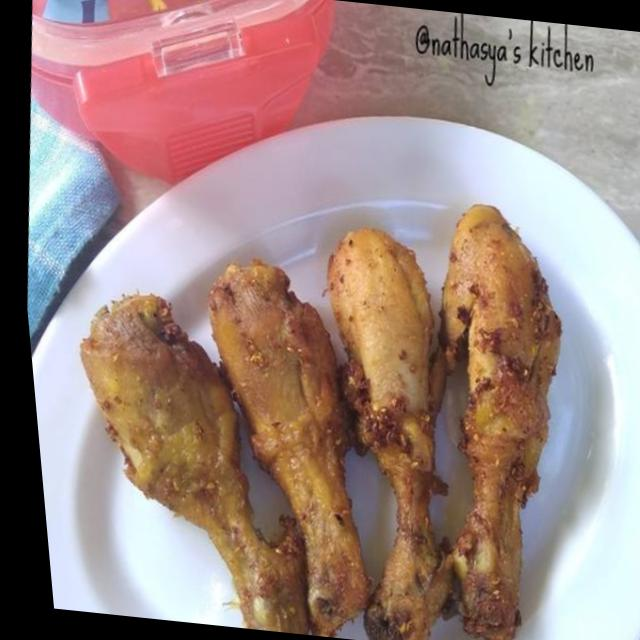CHICKEN FRY: (79, 206, 560, 640)
